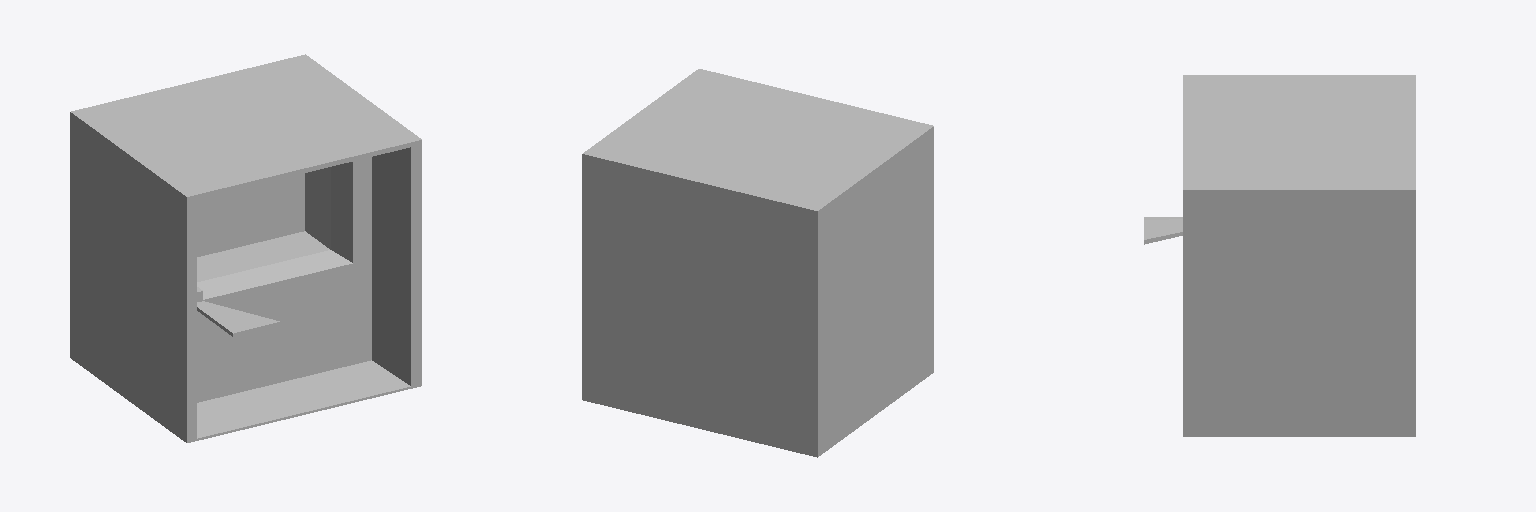
File: door_normal_back.obj
3 renders of one model, left to right at view 1: azimuth 30°, elevation 25°; view 2: azimuth 150°, elevation 25°; view 3: azimuth 270°, elevation 25°, orthographic.
Parts seen in each view (by area): view 1: Box005; view 2: Box005; view 3: Box005.
Boxes of the visible parts, x1,y1,x2,y2 form: Box005: [70, 54, 421, 442]; Box005: [582, 69, 933, 457]; Box005: [1144, 75, 1415, 436].
Size of the model in its own units: 12.8 by 12.8 by 12.81.